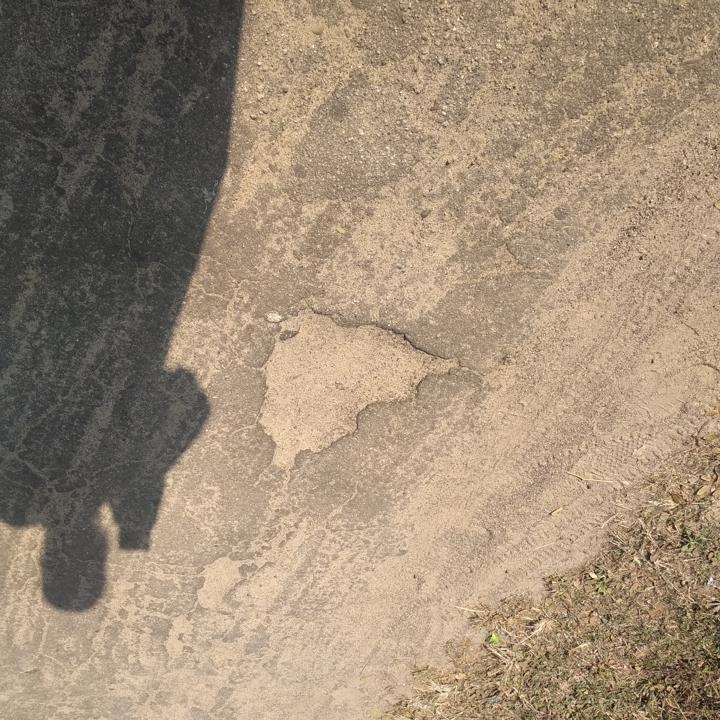pothole: (248, 306, 464, 477), (190, 554, 253, 613)
